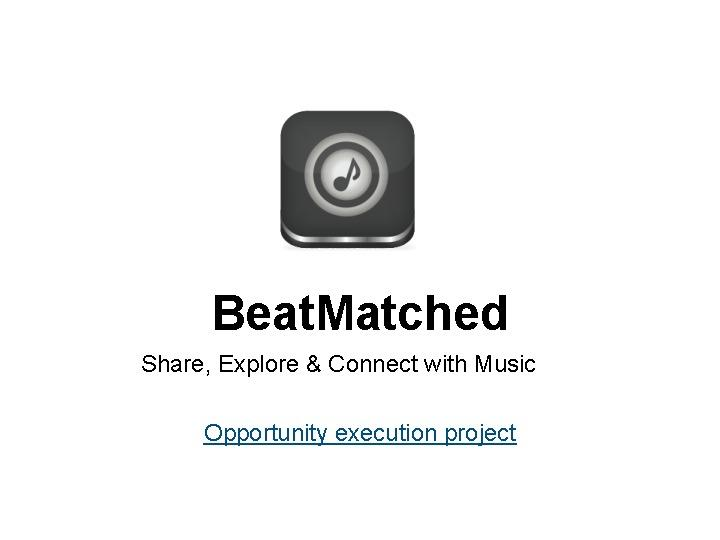subtitle: (201, 410, 548, 466)
title: (127, 280, 580, 395)
